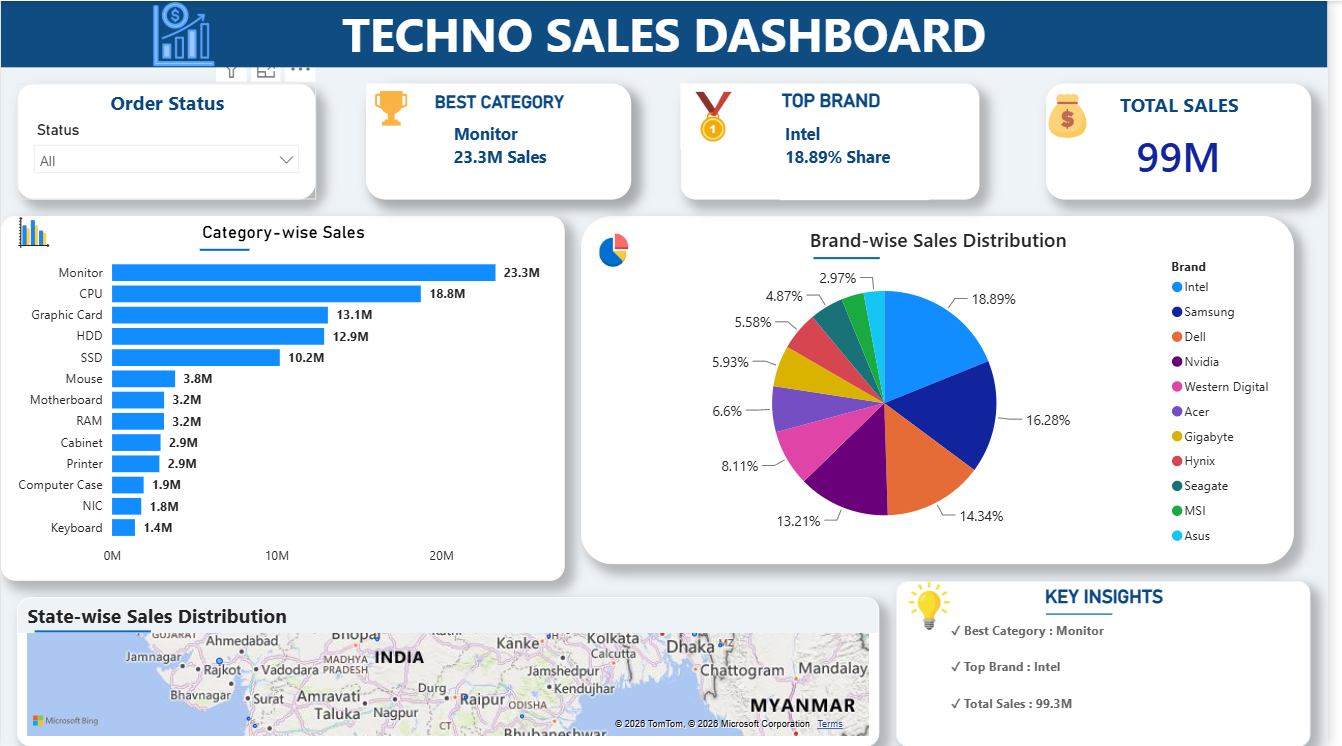

What the dashboard file says about the page in this screenshot:
{"tool":"powerbi","page":{"name":"techno sales dashboard","canvas":[1280,720],"ordinal":0},"visuals":[{"type":"cardVisual","title":"TOTAL SALES ","fields":{"Data":["Techno_Sales_Cleaned.Total Sales"]},"box":[1008,80,256,112],"z":0},{"type":"slicer","title":"Order Status","fields":{"Values":["Techno_Sales_Cleaned.Status"]},"box":[16,80,288,112],"z":1000},{"type":"textbox","title":"TECHNO SALES DASHBOARD ","box":[0,0,1280,64],"z":2000},{"type":"clusteredBarChart","title":"Category-wise Sales","fields":{"Category":["Techno_Sales_Cleaned.Category"],"Y":["Techno_Sales_Cleaned.Total Sales"]},"box":[0,208,544,352],"z":3000},{"type":"pieChart","title":"Brand-wise Sales Distribution","fields":{"Category":["Techno_Sales_Cleaned.Brand"],"Y":["Techno_Sales_Cleaned.Total Sales"]},"box":[560,208,688,336],"z":4000},{"type":"map","title":"State-wise Sales Distribution","fields":{"Size":["Techno_Sales_Cleaned.Total Sales"],"Category":["Techno Sales.State_Name"]},"box":[16,576,832,144],"z":5000},{"type":"image","box":[992,48,80,128],"z":6000},{"type":"image","box":[16,208,32,32],"z":7000},{"type":"image","box":[576,224,32,32],"z":8000},{"type":"image","box":[96,0,160,64],"z":9000},{"type":"shape","box":[192,176,48,128],"z":10000},{"type":"shape","box":[784,176,64,144],"z":11000},{"type":"shape","title":"BEST CATEGORY","box":[352,80,256,112],"z":12000},{"type":"image","box":[336,80,80,48],"z":13000},{"type":"textbox","box":[432,112,128,64],"z":14000},{"type":"shape","title":"TOP BRAND","box":[656,80,288,112],"z":15000},{"type":"image","box":[624,80,128,64],"z":16000},{"type":"textbox","box":[752,112,144,80],"z":17000},{"type":"shape","box":[32,528,112,160],"z":17001},{"type":"shape","title":"KEY INSIGHTS","box":[864,560,400,160],"z":17002},{"type":"image","box":[864,560,64,48],"z":17003},{"type":"shape","box":[1008,544,64,96],"z":17004},{"type":"textbox","box":[912,592,256,128],"z":17005}]}

Visuals, with their boxes in screenshot pixels (x1, y1, x2, y2), scaled from the page's 1280x720 canvas onto the 1342x746 screenshot:
"TOTAL SALES " cardVisual: (x1=1057, y1=83, x2=1325, y2=199)
"Order Status" slicer: (x1=17, y1=83, x2=319, y2=199)
"TECHNO SALES DASHBOARD " textbox: (x1=0, y1=0, x2=1341, y2=66)
"Category-wise Sales" clusteredBarChart: (x1=0, y1=216, x2=570, y2=580)
"Brand-wise Sales Distribution" pieChart: (x1=587, y1=216, x2=1308, y2=564)
"State-wise Sales Distribution" map: (x1=17, y1=597, x2=889, y2=745)
image: (x1=1040, y1=50, x2=1124, y2=182)
image: (x1=17, y1=216, x2=50, y2=249)
image: (x1=604, y1=232, x2=637, y2=265)
image: (x1=101, y1=0, x2=268, y2=66)
shape: (x1=201, y1=182, x2=252, y2=315)
shape: (x1=822, y1=182, x2=889, y2=332)
"BEST CATEGORY" shape: (x1=369, y1=83, x2=637, y2=199)
image: (x1=352, y1=83, x2=436, y2=133)
textbox: (x1=453, y1=116, x2=587, y2=182)
"TOP BRAND" shape: (x1=688, y1=83, x2=990, y2=199)
image: (x1=654, y1=83, x2=788, y2=149)
textbox: (x1=788, y1=116, x2=939, y2=199)
shape: (x1=34, y1=547, x2=151, y2=713)
"KEY INSIGHTS" shape: (x1=906, y1=580, x2=1325, y2=745)
image: (x1=906, y1=580, x2=973, y2=630)
shape: (x1=1057, y1=564, x2=1124, y2=663)
textbox: (x1=956, y1=613, x2=1225, y2=745)
